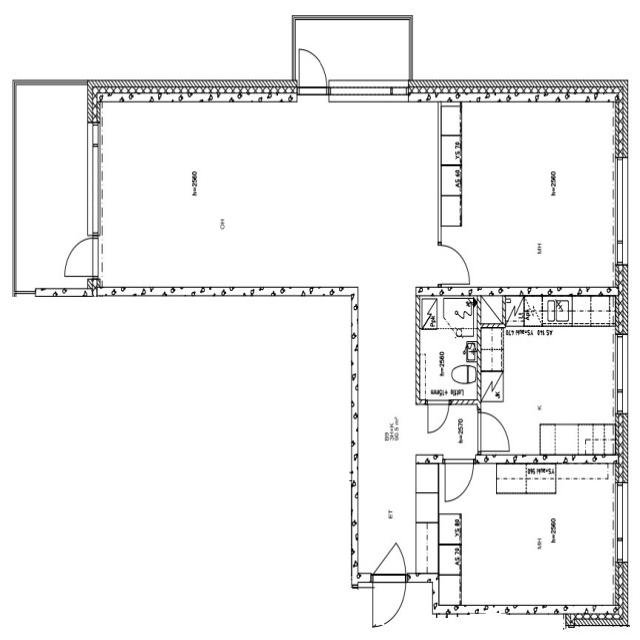door: (299, 40, 327, 102), (373, 528, 405, 582), (373, 573, 405, 626), (60, 238, 100, 276), (445, 454, 473, 501), (476, 412, 509, 451), (438, 245, 470, 284), (428, 399, 449, 432)
